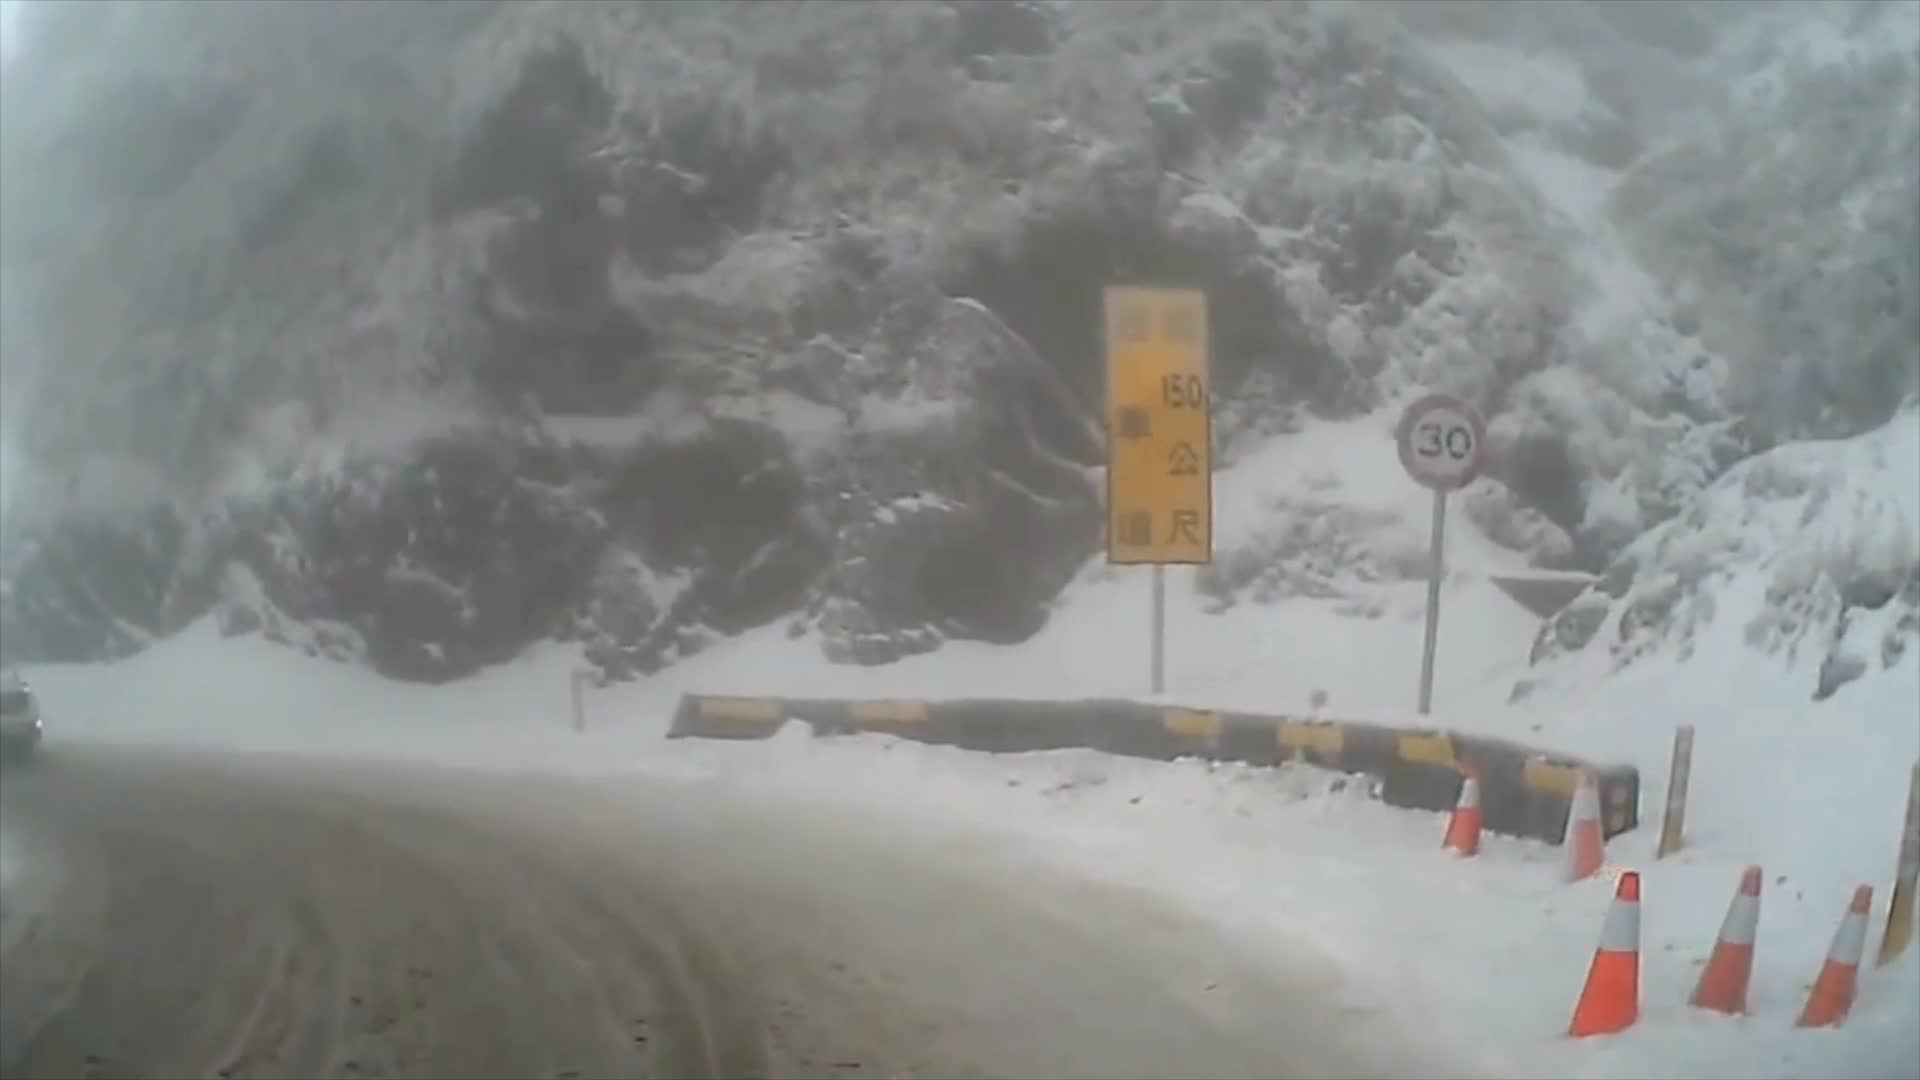vehicle: (0, 671, 40, 758)
